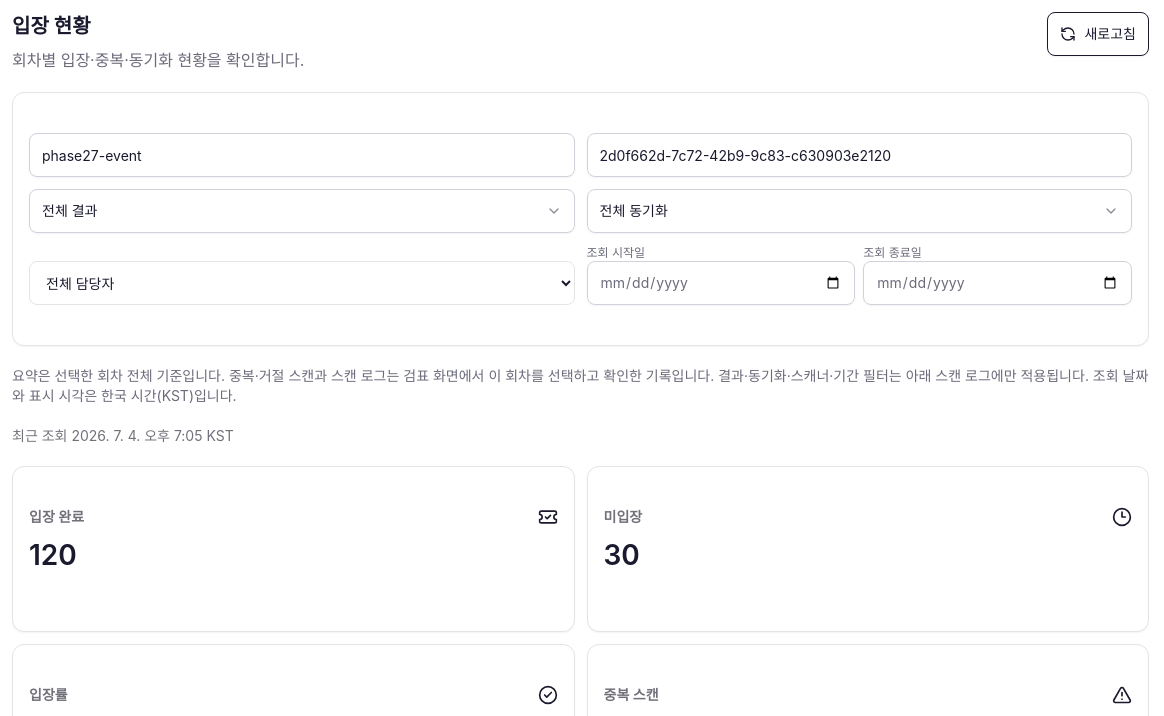
FieldMonitor › does not present a server count as the device offline backlog (audit #119)
This screenshot has width=1164, height=716.
Note: The log filter cannot offer a server-side pending state that is never recorded.
Step 1. Click the dropdown named "오프라인 상태 필터" → (634, 210), box [586,189,1132,233]
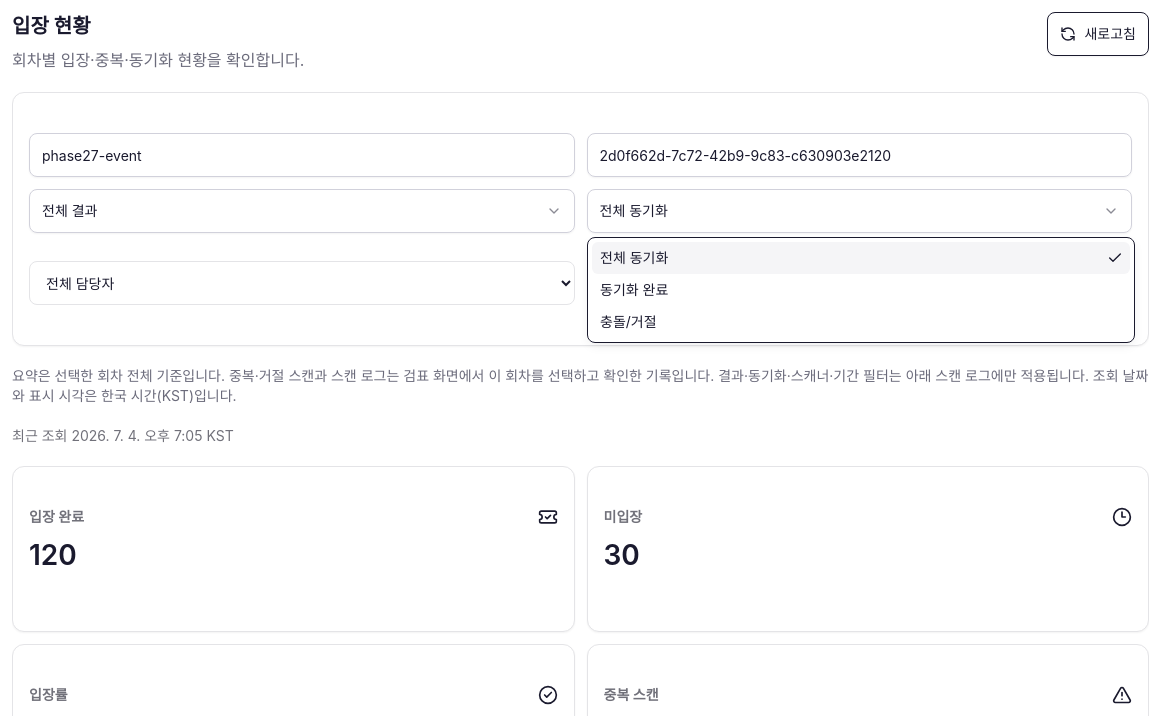
Check: the option "동기화 완료" is shown, box [600,281,668,298]
